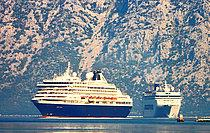Ship: (30, 59, 137, 121), (141, 79, 186, 124)
